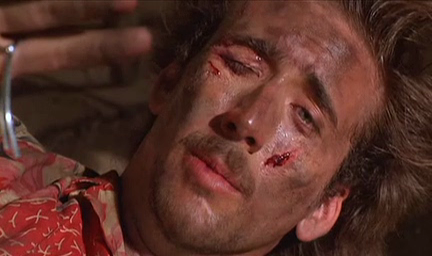ecu: (1, 1, 432, 256)
face: (147, 1, 384, 256)
person: (1, 1, 432, 256)
